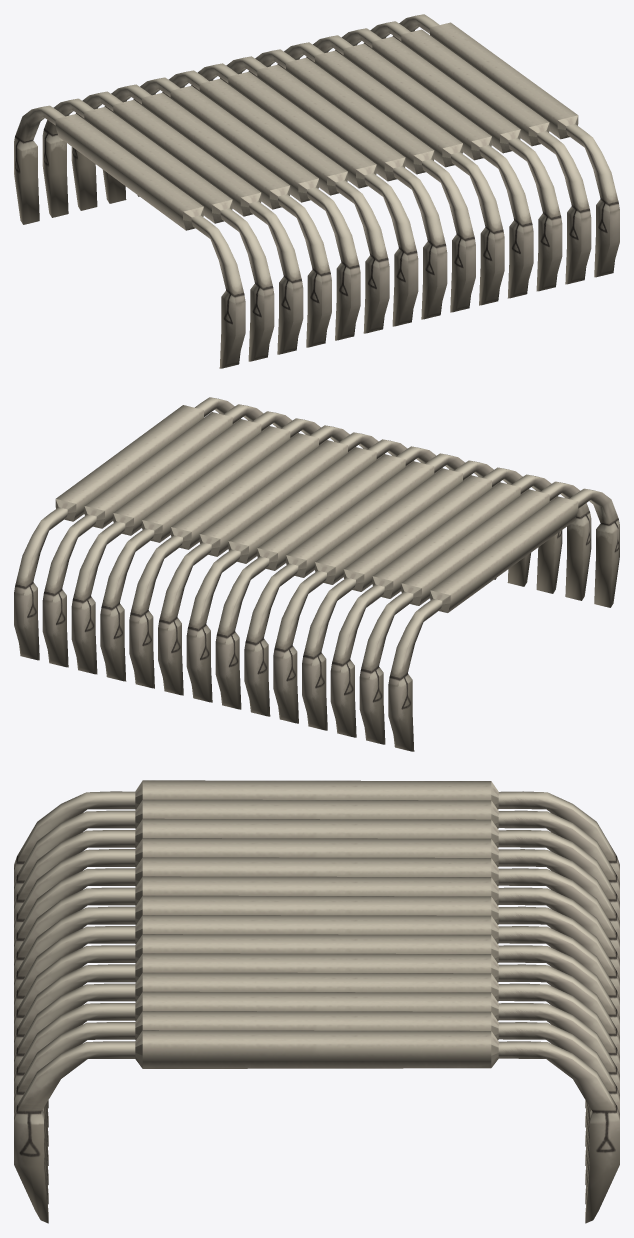
The model's file is tunnel.fbx.
The picture shows the model from 3 angles, top to bottom: view 1: azimuth 30°, elevation 25°; view 2: azimuth 150°, elevation 25°; view 3: azimuth 270°, elevation 25°; orthographic projection. The views are drawn at different scales.
Parts seen in each view (by area): view 1: Tunnel; view 2: Tunnel; view 3: Tunnel.
Part boxes in pixels (box(x1,y1,x2,y2)): Tunnel: box(14, 14, 619, 368); Tunnel: box(14, 397, 619, 751); Tunnel: box(14, 780, 619, 1223).
Bounding box in the file's own units: 27.44 × 8.79 × 26.66.
